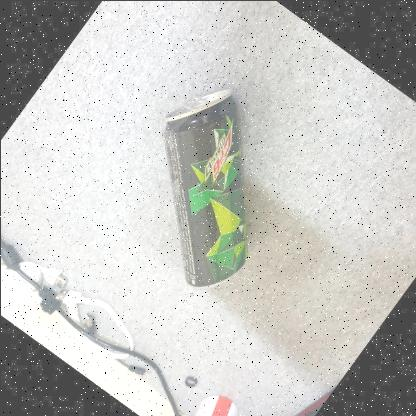Can: (162, 88, 248, 286)
